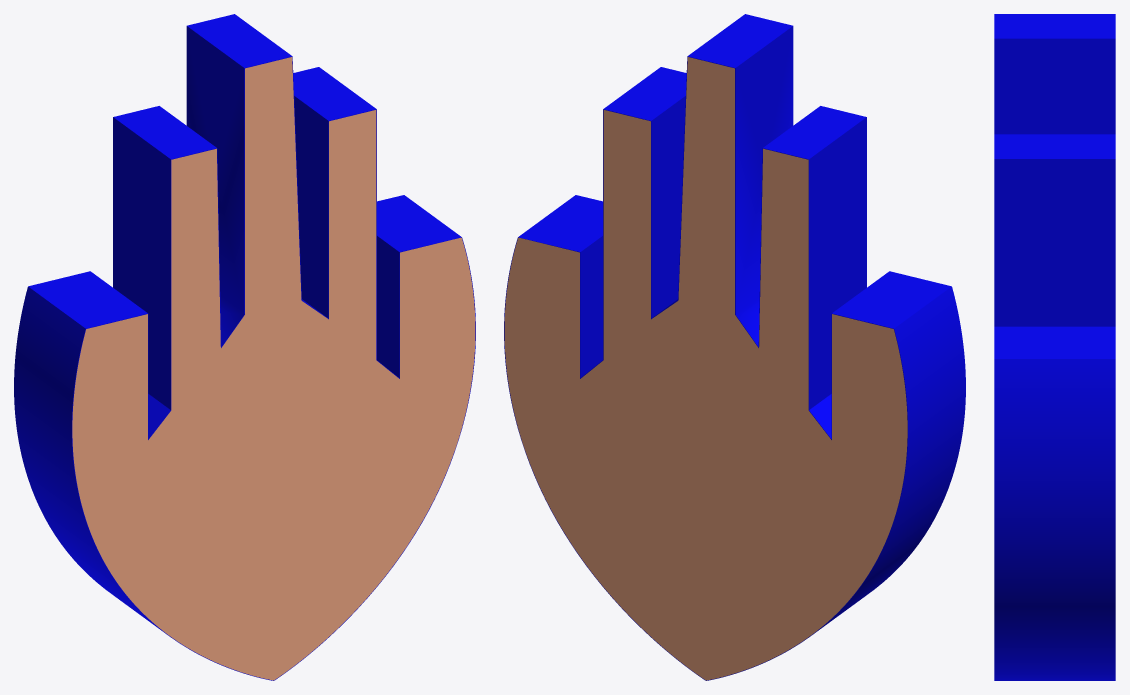
The model's file is hamsa.gltf.
The picture shows the model from 3 angles, left to right: view 1: azimuth 30°, elevation 25°; view 2: azimuth 150°, elevation 25°; view 3: azimuth 270°, elevation 25°; orthographic projection. The views are drawn at different scales.
Size of the model in its own units: 0.1855 by 0.272 by 0.046.
